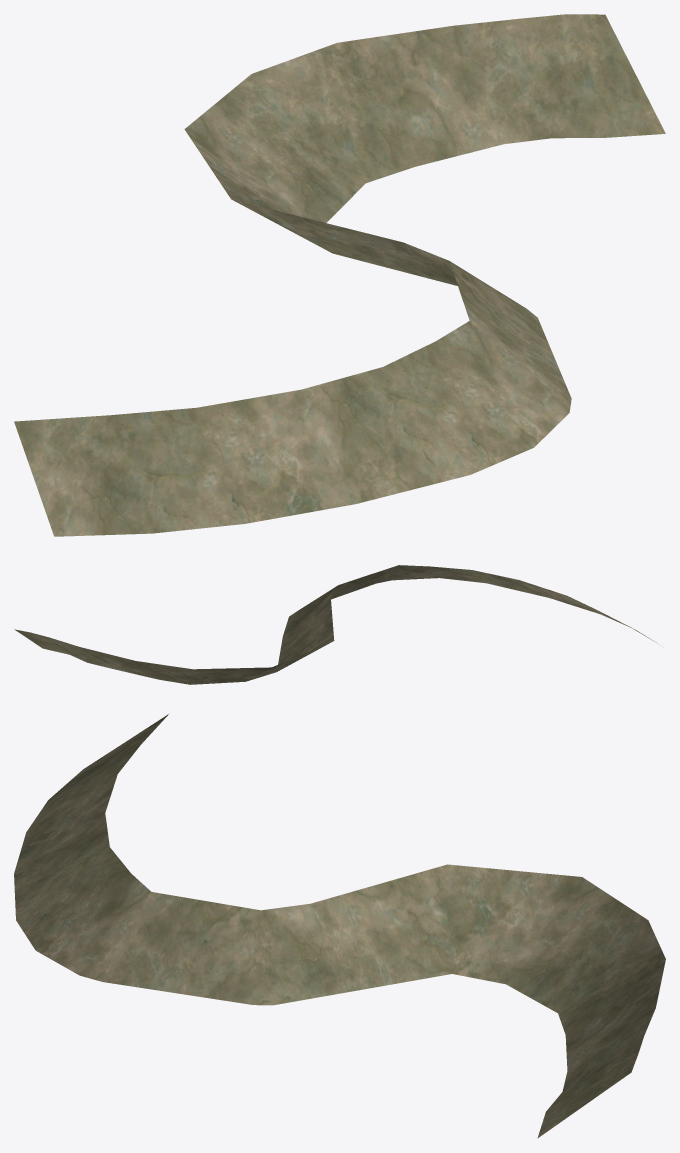
File: OVERHILL_A_01_OBJECT181.fbx
3 renders of one model, top to bottom at view 1: azimuth 30°, elevation 25°; view 2: azimuth 150°, elevation 25°; view 3: azimuth 270°, elevation 25°, orthographic. The views are drawn at different scales.
Visible parts, largest first — view 1: OVERHILL_A_01_OBJECT181; view 2: OVERHILL_A_01_OBJECT181; view 3: OVERHILL_A_01_OBJECT181.
Part boxes in pixels (bbox=[...]): OVERHILL_A_01_OBJECT181: bbox=[14, 14, 665, 536]; OVERHILL_A_01_OBJECT181: bbox=[14, 565, 657, 684]; OVERHILL_A_01_OBJECT181: bbox=[14, 714, 665, 1138].
Bounding box in the file's own units: 258834 × 26638 × 199757.
Materials: 1 (1 with a texture image).
